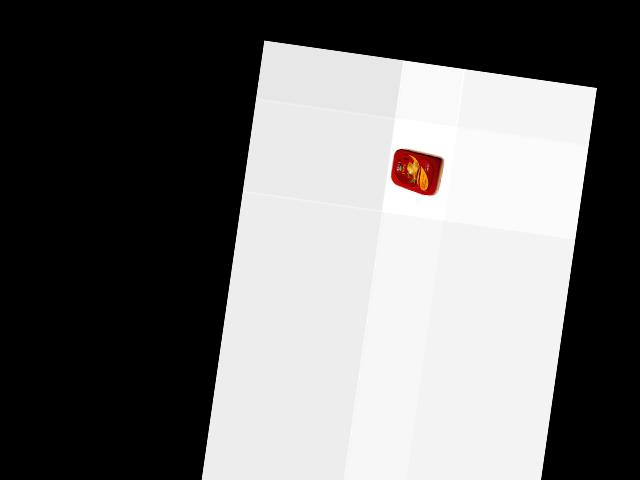cheese: (386, 146, 445, 196)
